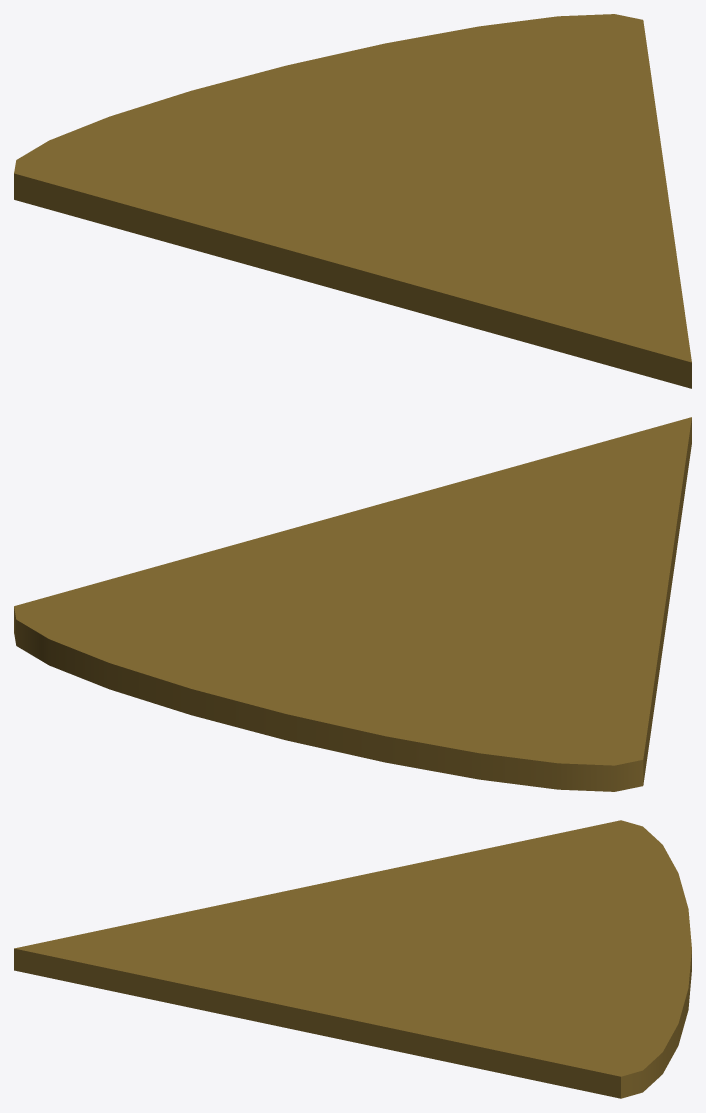
The model's file is crepe.fbx.
The picture shows the model from 3 angles, top to bottom: view 1: azimuth 30°, elevation 25°; view 2: azimuth 150°, elevation 25°; view 3: azimuth 270°, elevation 25°; orthographic projection. The views are drawn at different scales.
Visible parts, largest first — view 1: pCube1, pCylinder1; view 2: pCube1, pCylinder1; view 3: pCube1, pCylinder1.
Part boxes in pixels (box(x1,y1,x2,y2)): pCube1: box(14, 20, 691, 388); pCylinder1: box(14, 14, 642, 173); pCube1: box(14, 417, 691, 784); pCylinder1: box(14, 606, 643, 791); pCube1: box(14, 820, 620, 1098); pCylinder1: box(621, 820, 691, 1098).
Bounding box in the file's own units: 50 × 2 × 55.84.
